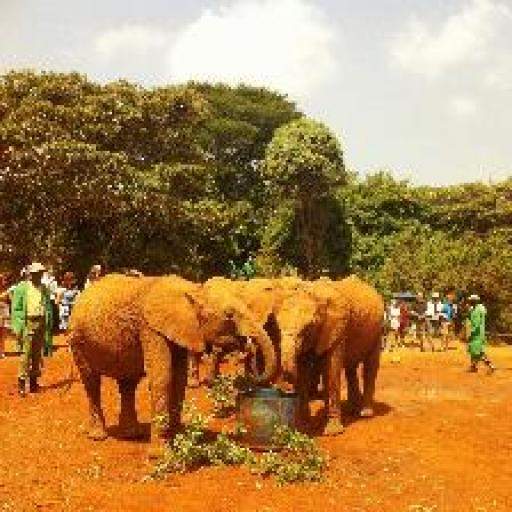Elephant: (64, 272, 277, 441), (201, 272, 384, 430)
